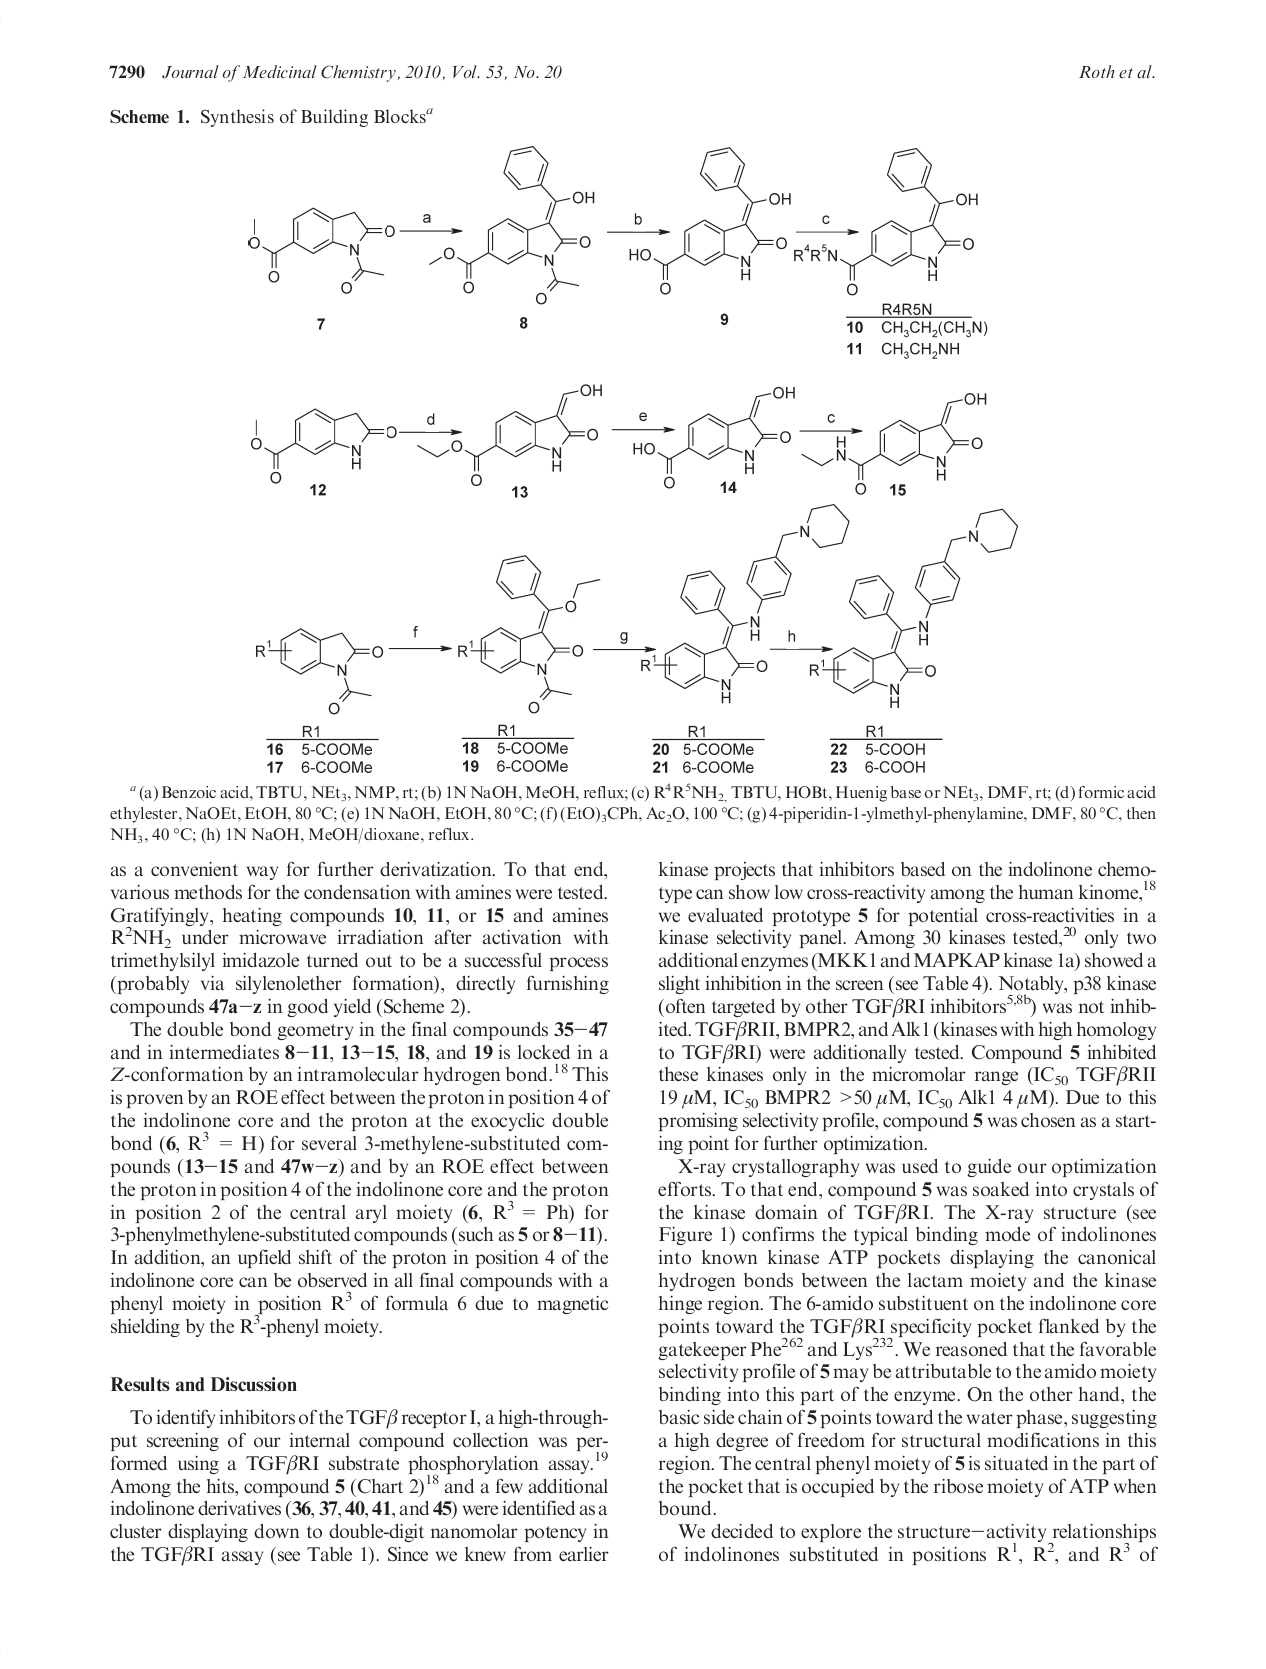exist_molecular: (636, 500, 852, 706), (809, 505, 1021, 709), (793, 146, 980, 297), (427, 142, 596, 306), (626, 145, 795, 297), (456, 553, 601, 714), (414, 378, 606, 489), (799, 390, 989, 496), (630, 380, 799, 492), (245, 205, 395, 297), (249, 402, 399, 484), (253, 626, 386, 715)
